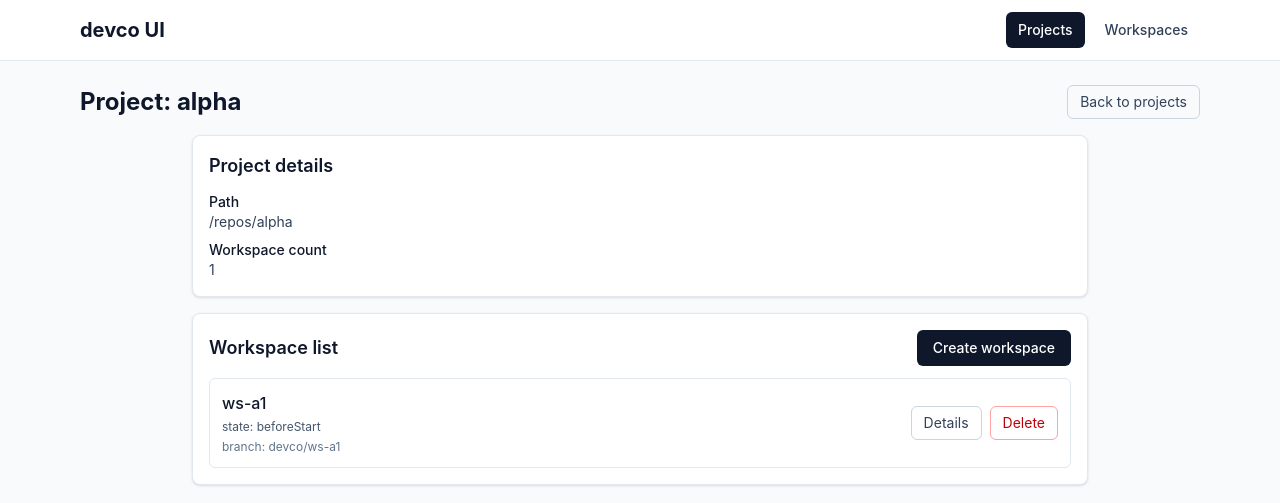
Test case: App browser flows › moves to workspace details when workspace list item is clicked
Expected: the heading "Project: alpha" is shown, [80, 86, 241, 118]
Click the list item "ws-a1 state: beforeStart branch: devco/ws-a1 Details Delete".
click(640, 423)  # box [209, 378, 1071, 468]
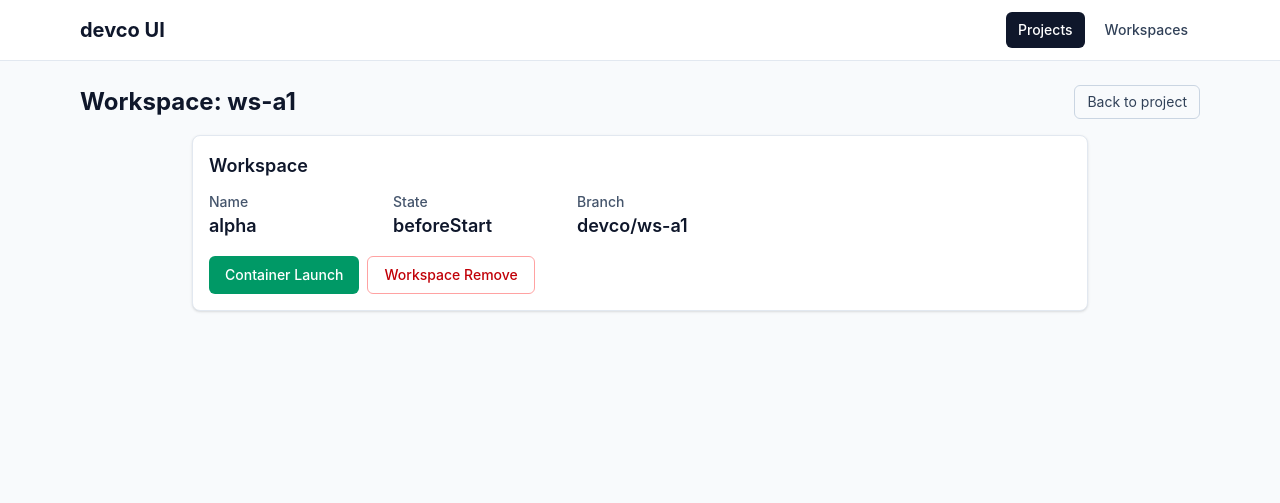
Result: the heading "Workspace: ws-a1" is shown at [80, 86, 296, 118]
